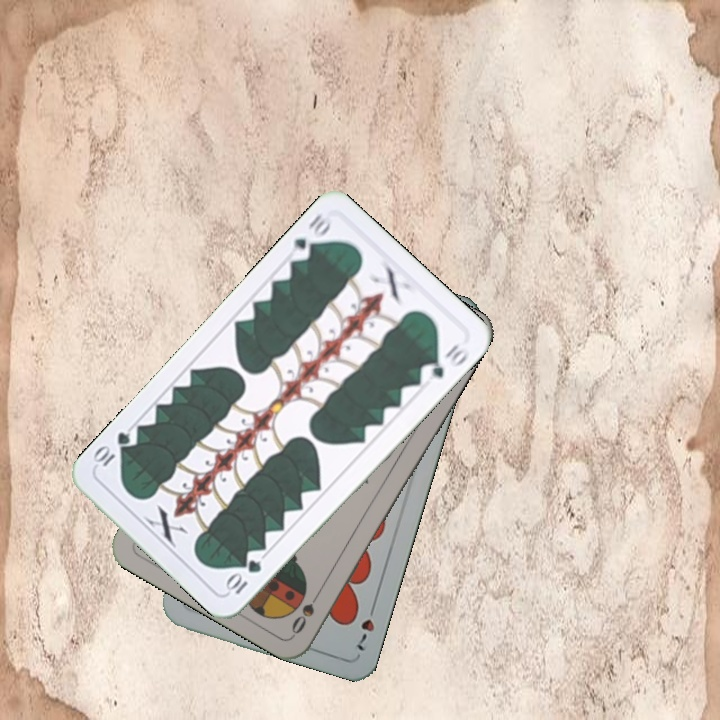G10: (289, 209, 334, 264), (222, 555, 265, 597)
H7: (353, 598, 379, 654)
SO: (287, 583, 325, 637)
